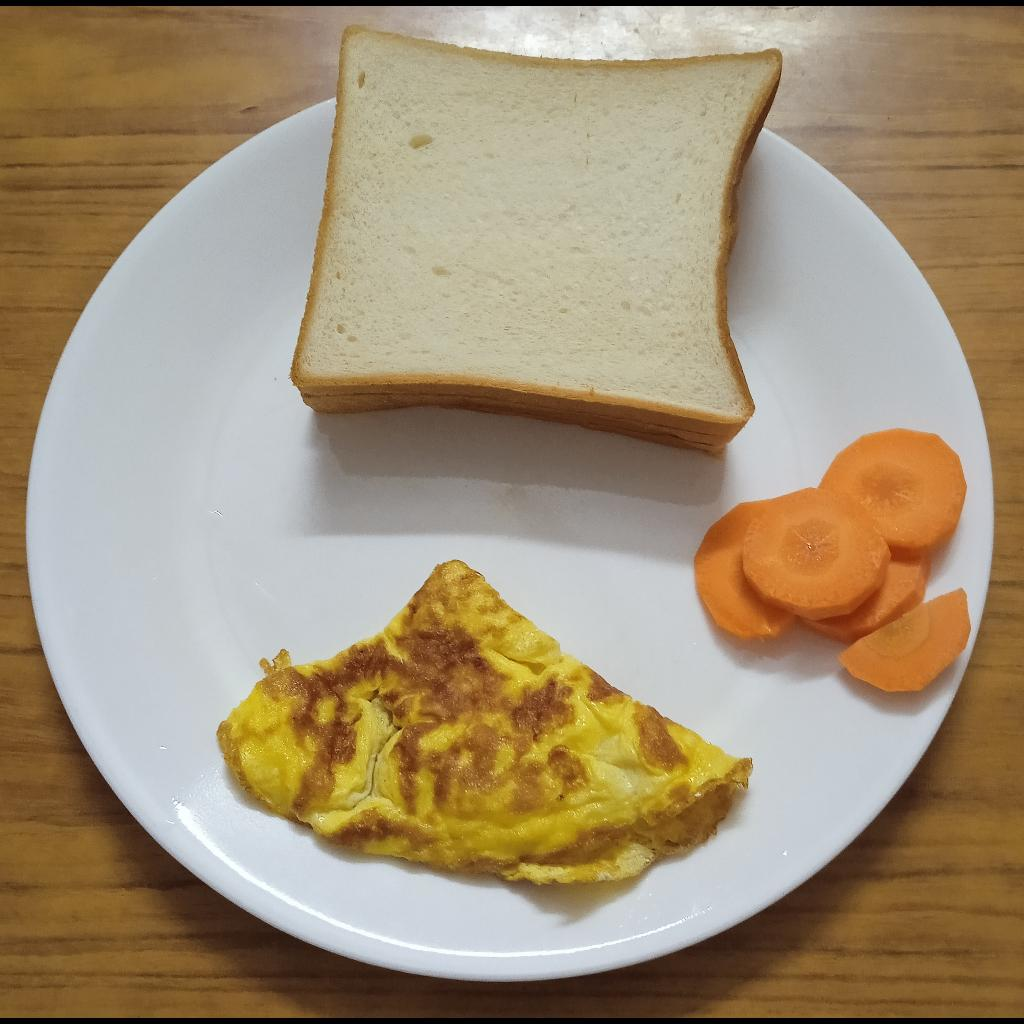bread: (289, 25, 782, 455)
carrot: (693, 428, 970, 692)
egg-poached: (216, 561, 754, 885)
